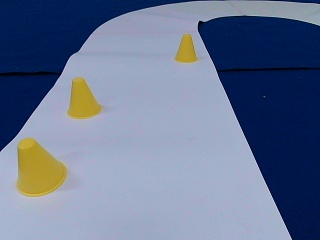cone: (15, 138, 67, 195), (65, 78, 101, 117), (174, 34, 196, 62)
